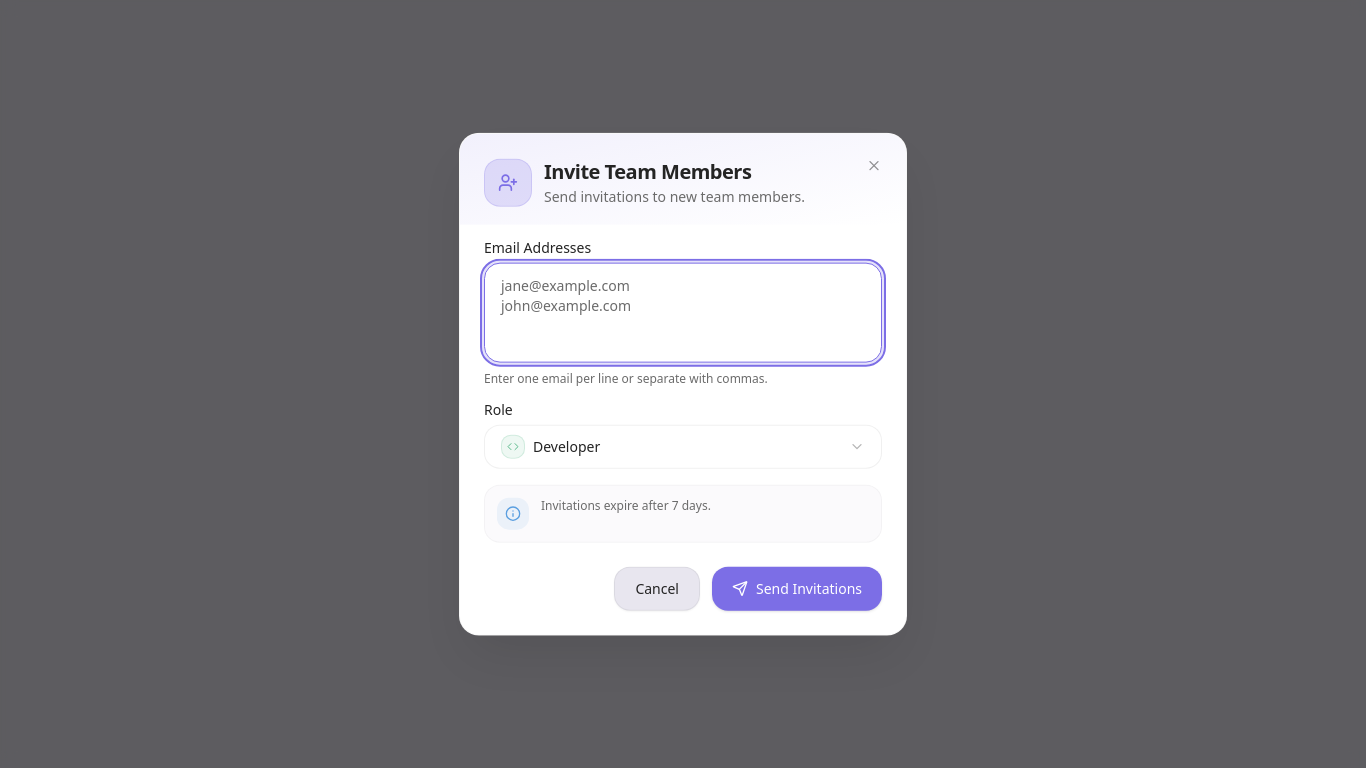
Test: InviteDialog › validates empty email input
Note: Type an invalid email format
In the text box with placeholder "jane@example.com john@example.com": (683, 312) [484,262,882,362], type "not-an-email"
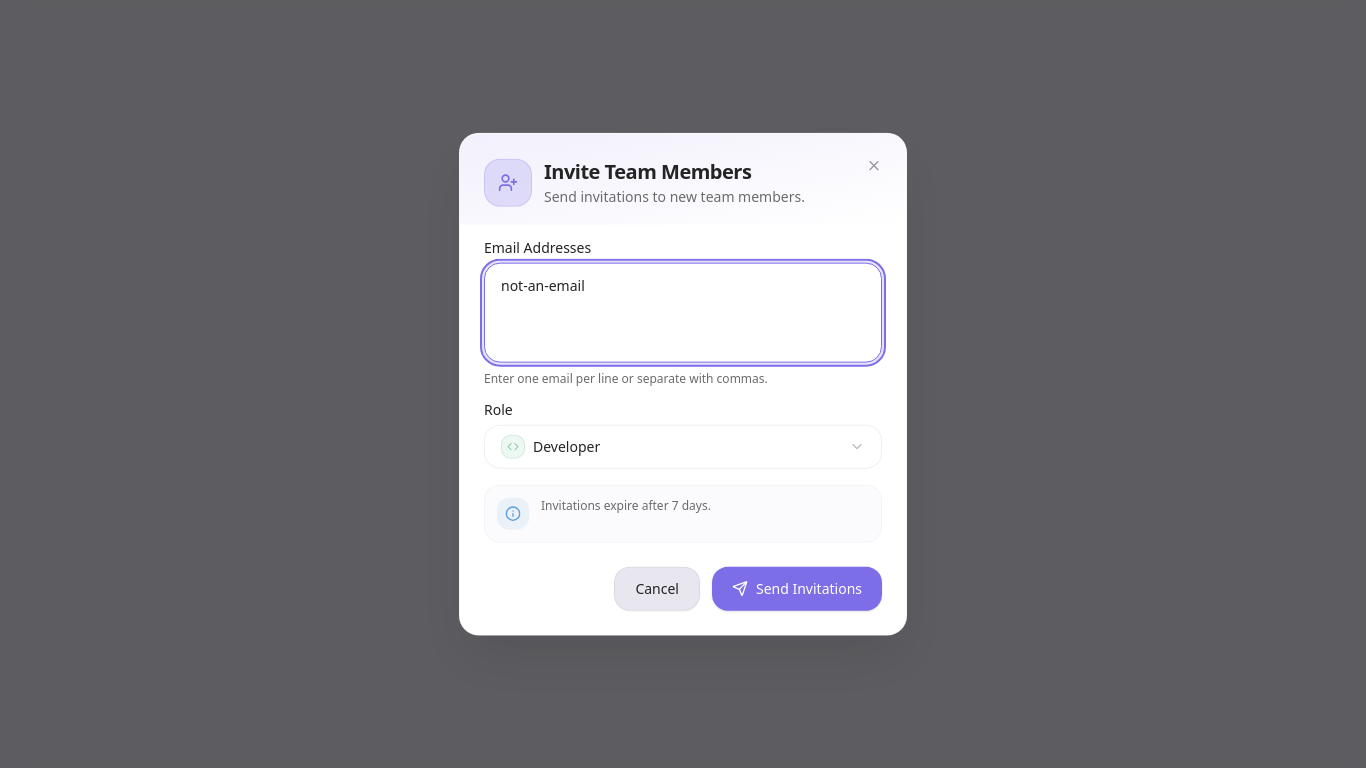
Note: Click send
Click the button "Send Invitations": click(797, 588) [712,566,882,610]
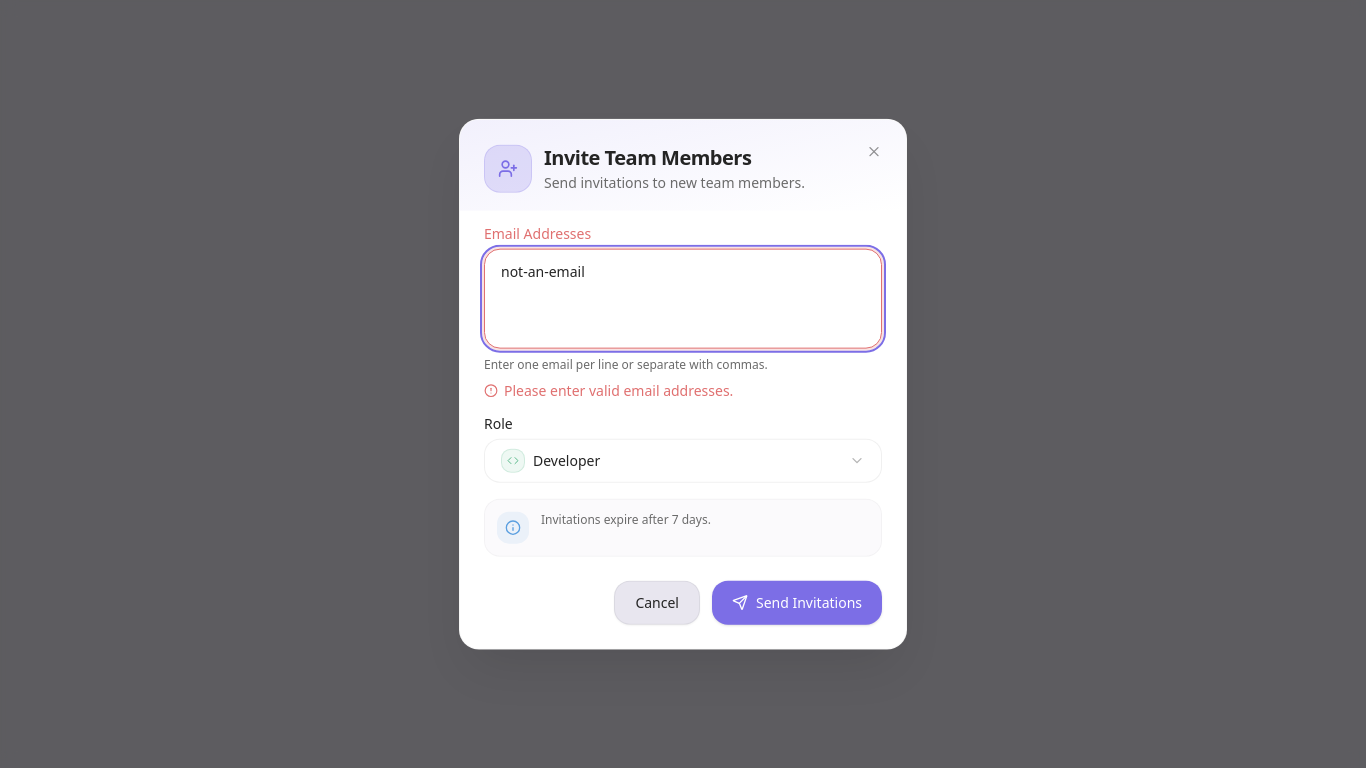
Now the text "Please enter valid email addresses." is shown, box [484,380,733,399]
